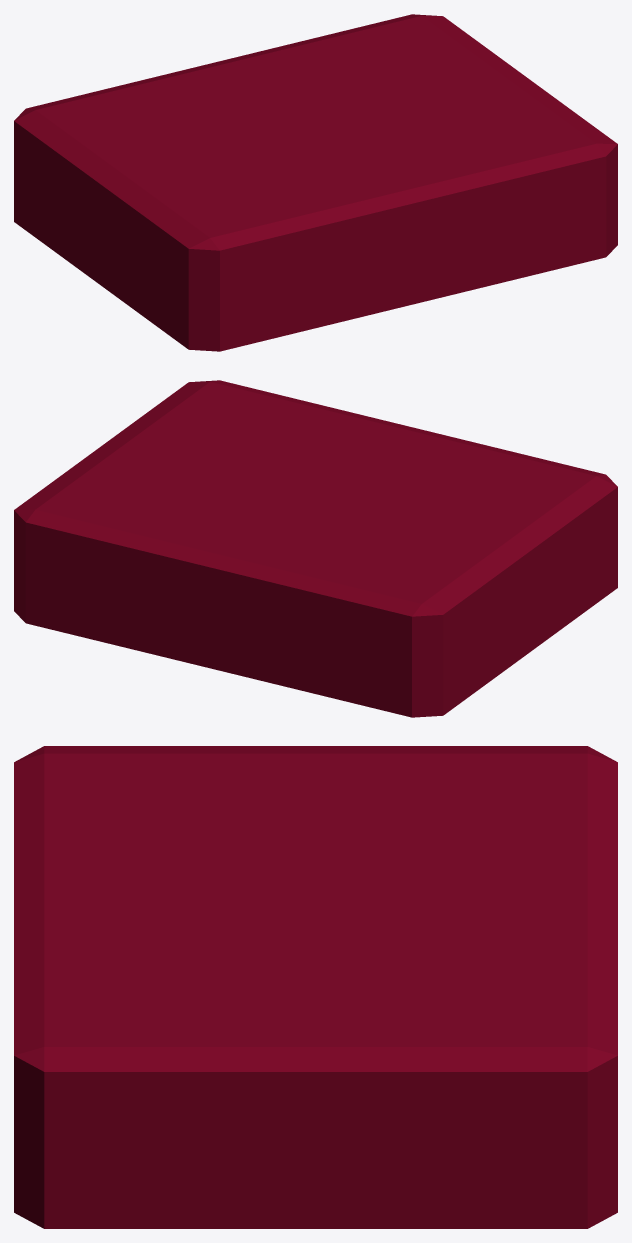
The model's file is SofaCushionV1.fbx.
The picture shows the model from 3 angles, top to bottom: view 1: azimuth 30°, elevation 25°; view 2: azimuth 150°, elevation 25°; view 3: azimuth 270°, elevation 25°; orthographic projection. The views are drawn at different scales.
Parts seen in each view (by area): view 1: Cube.003; view 2: Cube.003; view 3: Cube.003.
Boxes of the visible parts, left/top/right/bottom form: Cube.003: left=14, top=14, right=617, bottom=351; Cube.003: left=14, top=380, right=617, bottom=717; Cube.003: left=14, top=746, right=617, bottom=1228.
Bounding box in the file's own units: 1015 × 1296 × 324.
